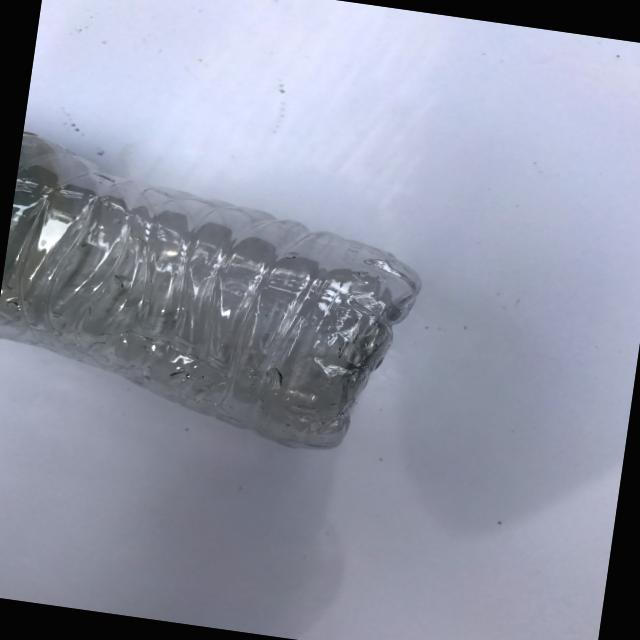Plastic: (0, 127, 462, 471)
